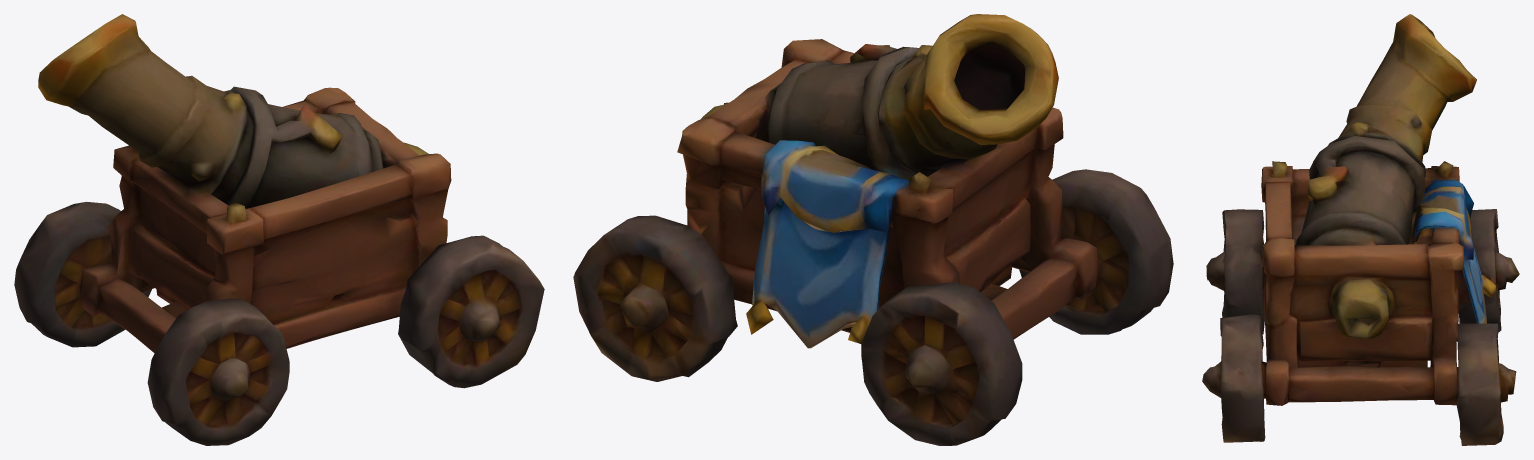
Rendered from minion_siege_blue.glb.
3 views of the same model, side by side, from view 1: azimuth 30°, elevation 25°; view 2: azimuth 150°, elevation 25°; view 3: azimuth 270°, elevation 25° (orthographic). The views are drawn at different scales.
Visible parts, largest first — view 1: tripo_node_669004e1-61cc-4ea9-b646-21696e7891b6; view 2: tripo_node_669004e1-61cc-4ea9-b646-21696e7891b6; view 3: tripo_node_669004e1-61cc-4ea9-b646-21696e7891b6.
Part boxes in pixels (x1,y1,x2,y2): tripo_node_669004e1-61cc-4ea9-b646-21696e7891b6: [14, 14, 544, 445]; tripo_node_669004e1-61cc-4ea9-b646-21696e7891b6: [573, 14, 1173, 445]; tripo_node_669004e1-61cc-4ea9-b646-21696e7891b6: [1202, 14, 1519, 445].
Bounding box in the file's own units: 1 × 0.871 × 0.8136.
Materials: 1 (1 with a texture image).
